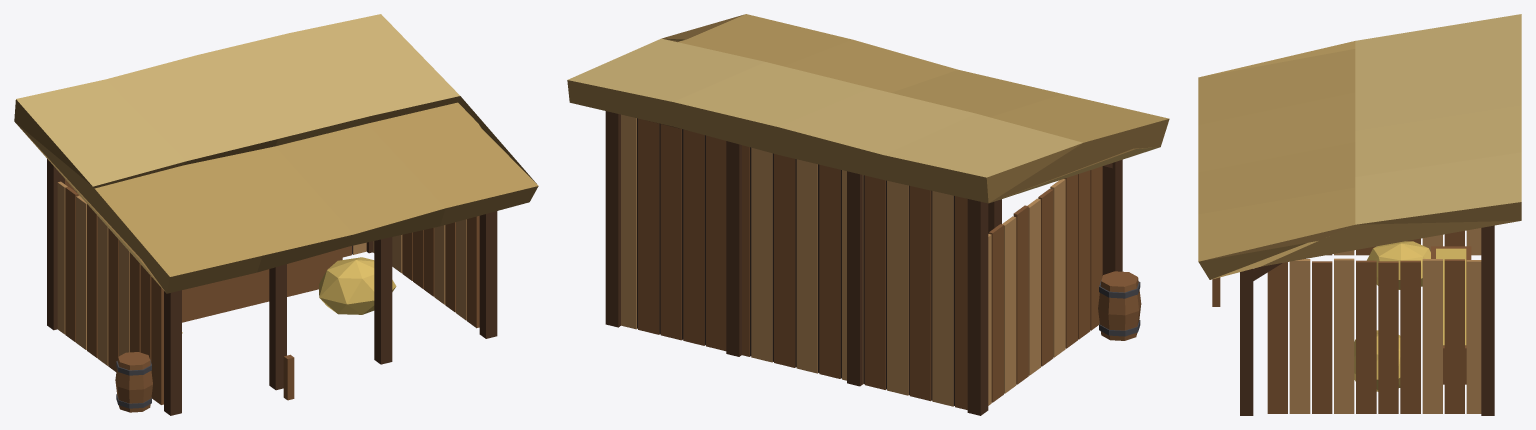
Rendered from Dorf_Stall.fbx.
3 renders of one model, left to right at view 1: azimuth 30°, elevation 25°; view 2: azimuth 150°, elevation 25°; view 3: azimuth 270°, elevation 25°, orthographic. The views are drawn at different scales.
Parts seen in each view (by area): view 1: Dorf_Stall; view 2: Dorf_Stall; view 3: Dorf_Stall.
Boxes of the visible parts, x1,y1,x2,y2 form: Dorf_Stall: [14, 14, 538, 415]; Dorf_Stall: [567, 14, 1169, 415]; Dorf_Stall: [1198, 14, 1521, 415].
Size of the model in its own units: 6.78 by 3.76 by 4.82.
